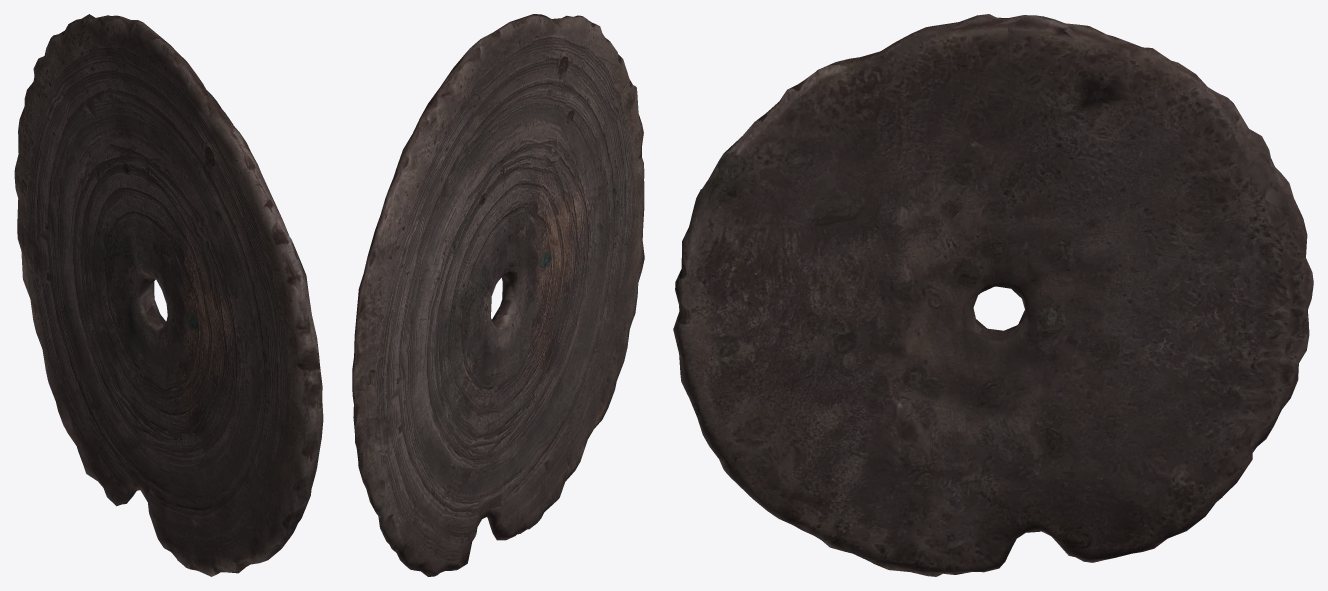
The model's file is disk_low_re-transformed.glb.
The picture shows the model from 3 angles, left to right: view 1: azimuth 30°, elevation 25°; view 2: azimuth 150°, elevation 25°; view 3: azimuth 270°, elevation 25°; orthographic projection. The views are drawn at different scales.
Visible parts, largest first — view 1: Model; view 2: Model; view 3: Model.
Part boxes in pixels (x1,y1,x2,y2): Model: (14,14,323,576); Model: (352,14,644,576); Model: (673,14,1313,576).
Size of the model in its own units: 0.0511 by 0.7934 by 0.8183.
1 material, 1 textured.
